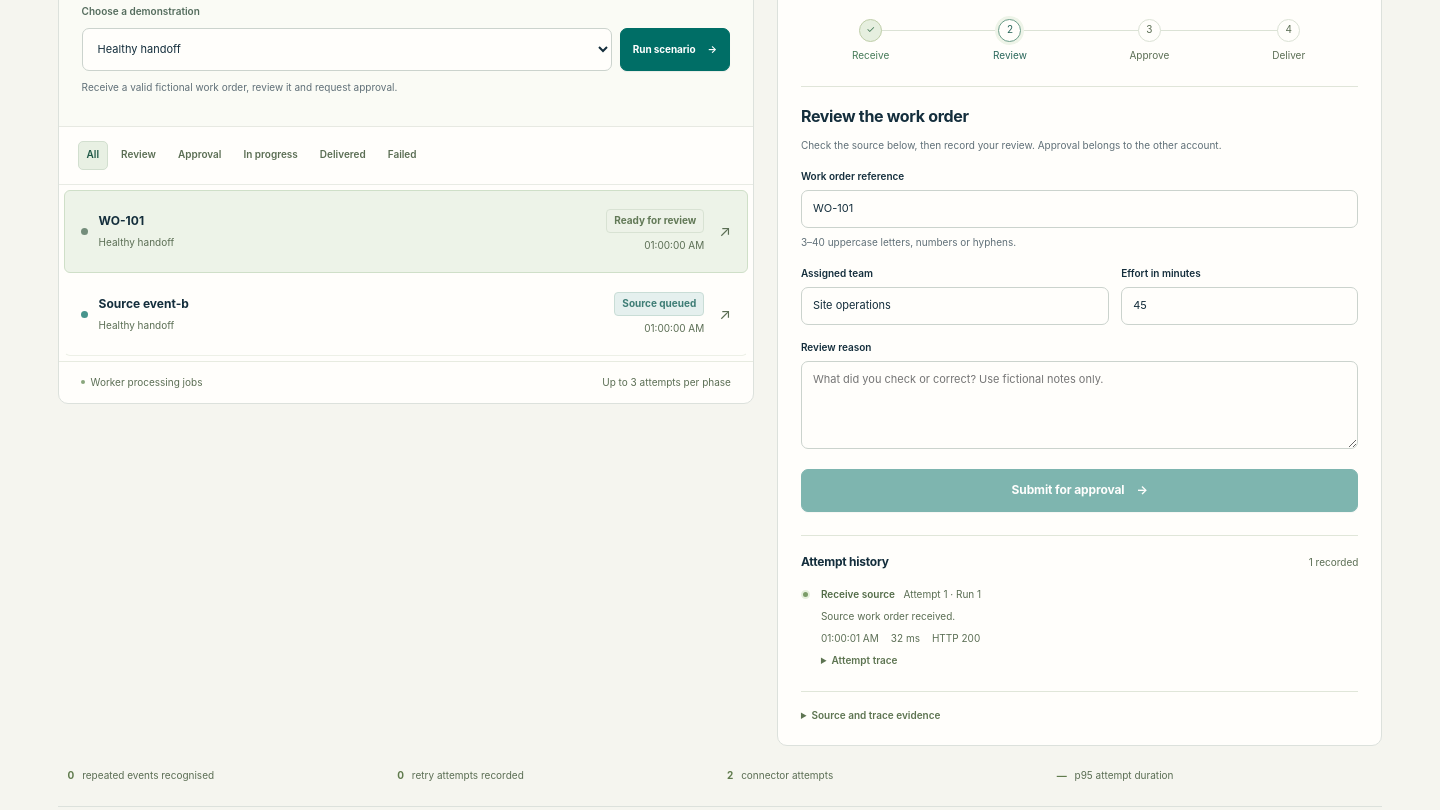
Scenario: Team edition commands and evidence › retains dirty review fields when polling updates a different job
The width and height of the screenshot is (1440, 810).
(page scrolled)
Step 1. Type "An unfinished careful review." into the text box labelled "Review reason" → (1080,405), box [801, 361, 1358, 449]
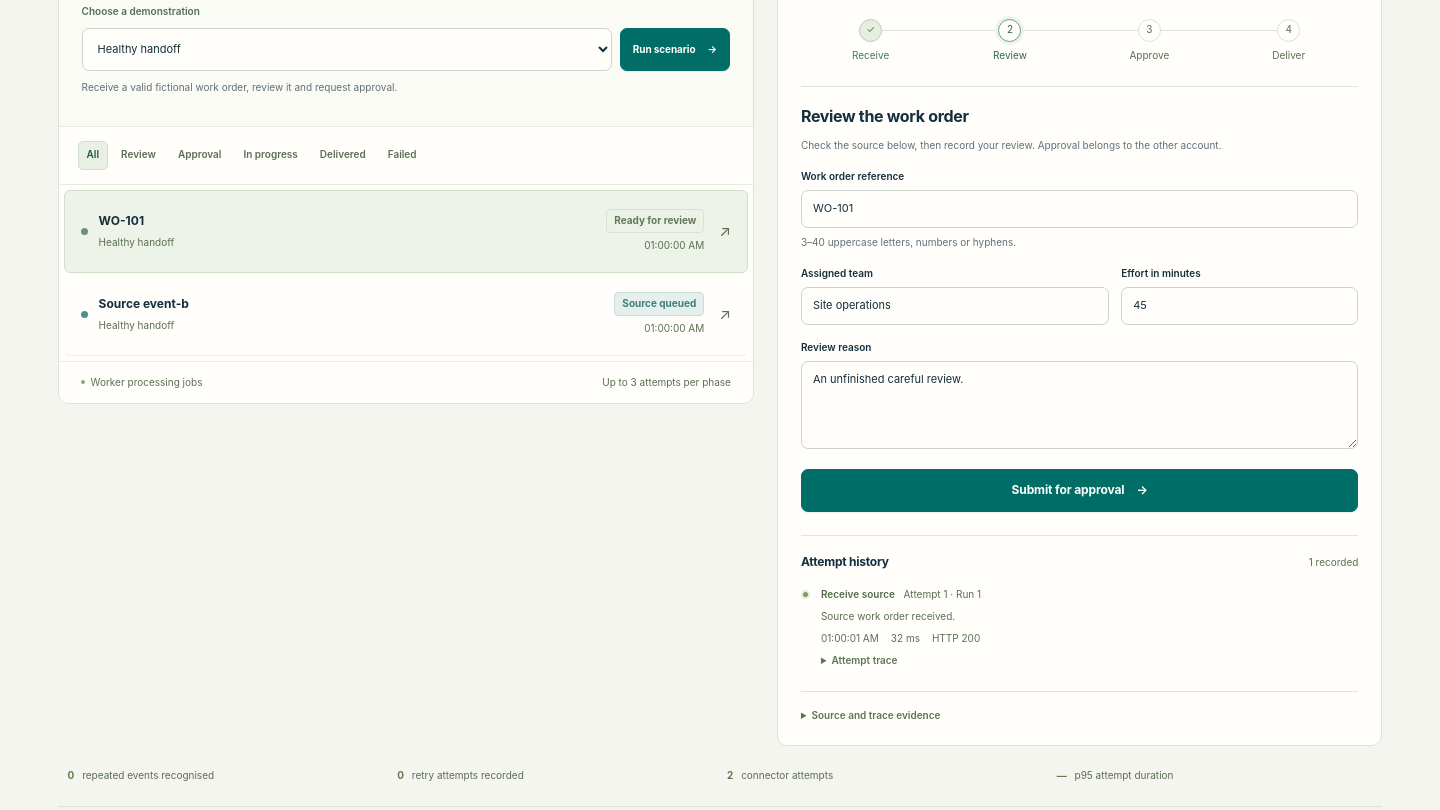
Step 2. Replace the text in the field labelled "Assigned team" with "Edited team" → (955,306), box [801, 287, 1109, 325]
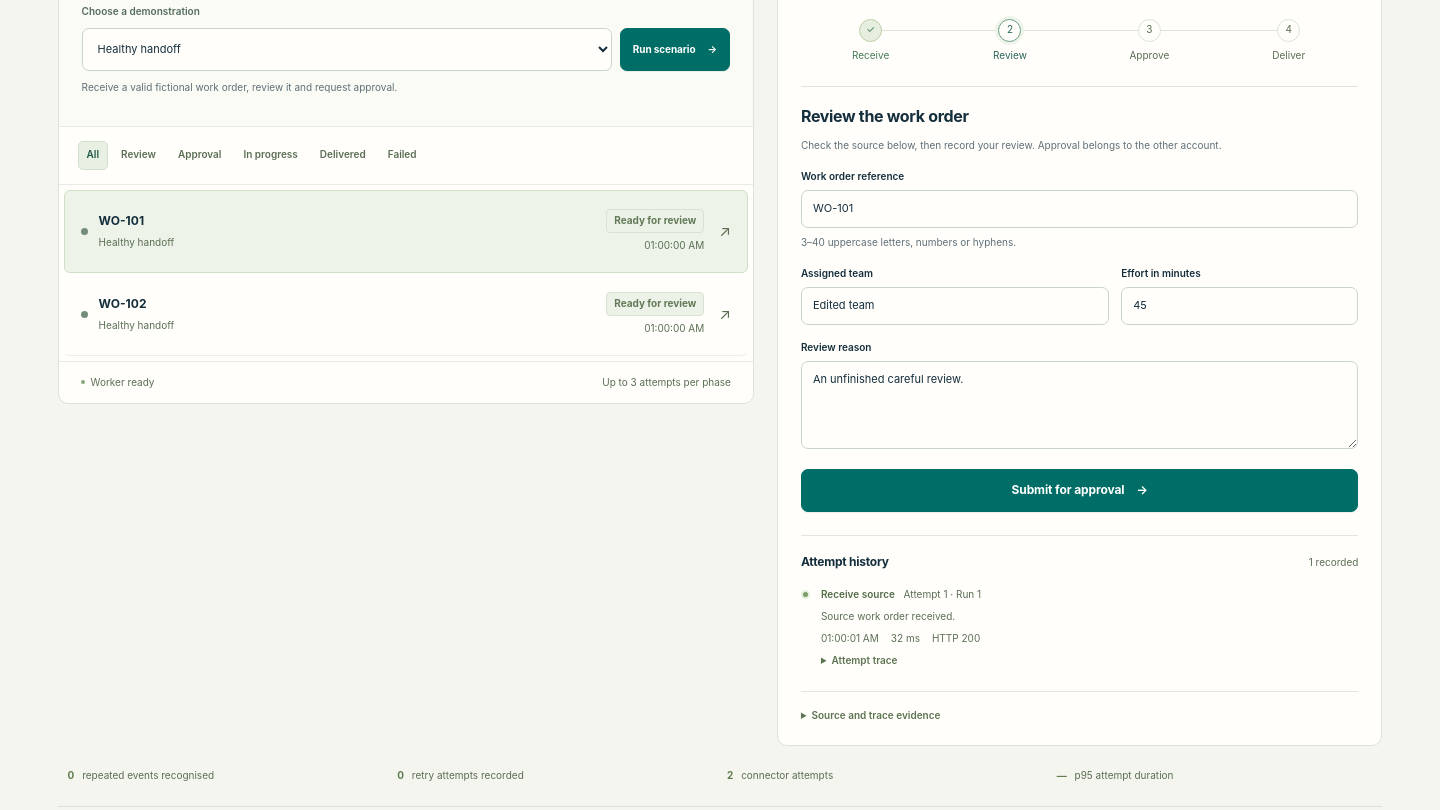
Result: the text "WO-102" is shown at [99, 296, 146, 311]
